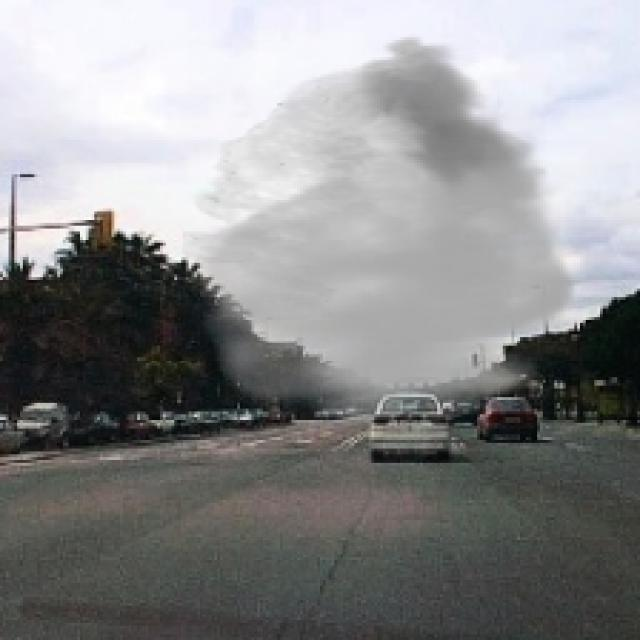smoke: (183, 34, 583, 426)
